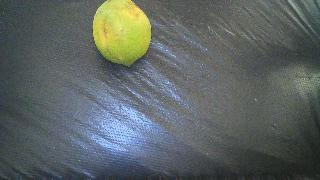DESECHO: (92, 0, 151, 66)
